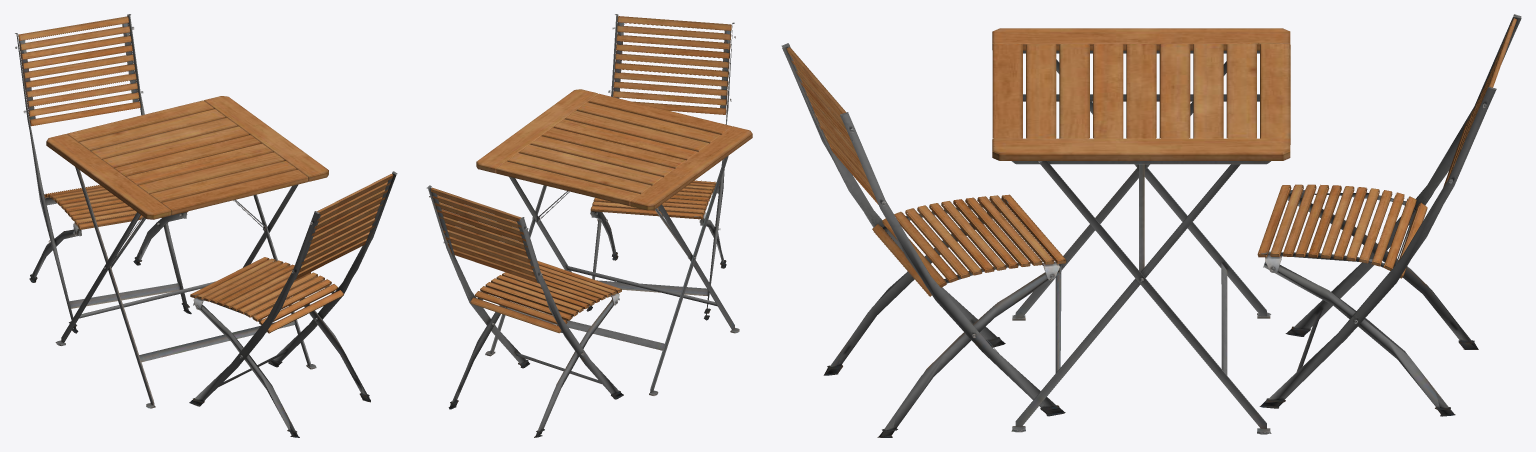
The model's file is ph_outdoor_table_chair_set_01.glb.
3 renders of one model, left to right at view 1: azimuth 30°, elevation 25°; view 2: azimuth 150°, elevation 25°; view 3: azimuth 270°, elevation 25°, orthographic. The views are drawn at different scales.
Visible parts, largest first — view 1: outdoor_table_chair_set_01_chair_01; view 2: outdoor_table_chair_set_01_chair_01; view 3: outdoor_table_chair_set_01_chair_01.
Part boxes in pixels (x1,y1,x2,y2): outdoor_table_chair_set_01_chair_01: (15, 14, 397, 437); outdoor_table_chair_set_01_chair_01: (426, 14, 752, 437); outdoor_table_chair_set_01_chair_01: (781, 14, 1521, 437).
Bounding box in the file's own units: 0.7421 × 0.8562 × 1.72.
2 materials, 2 textured.
